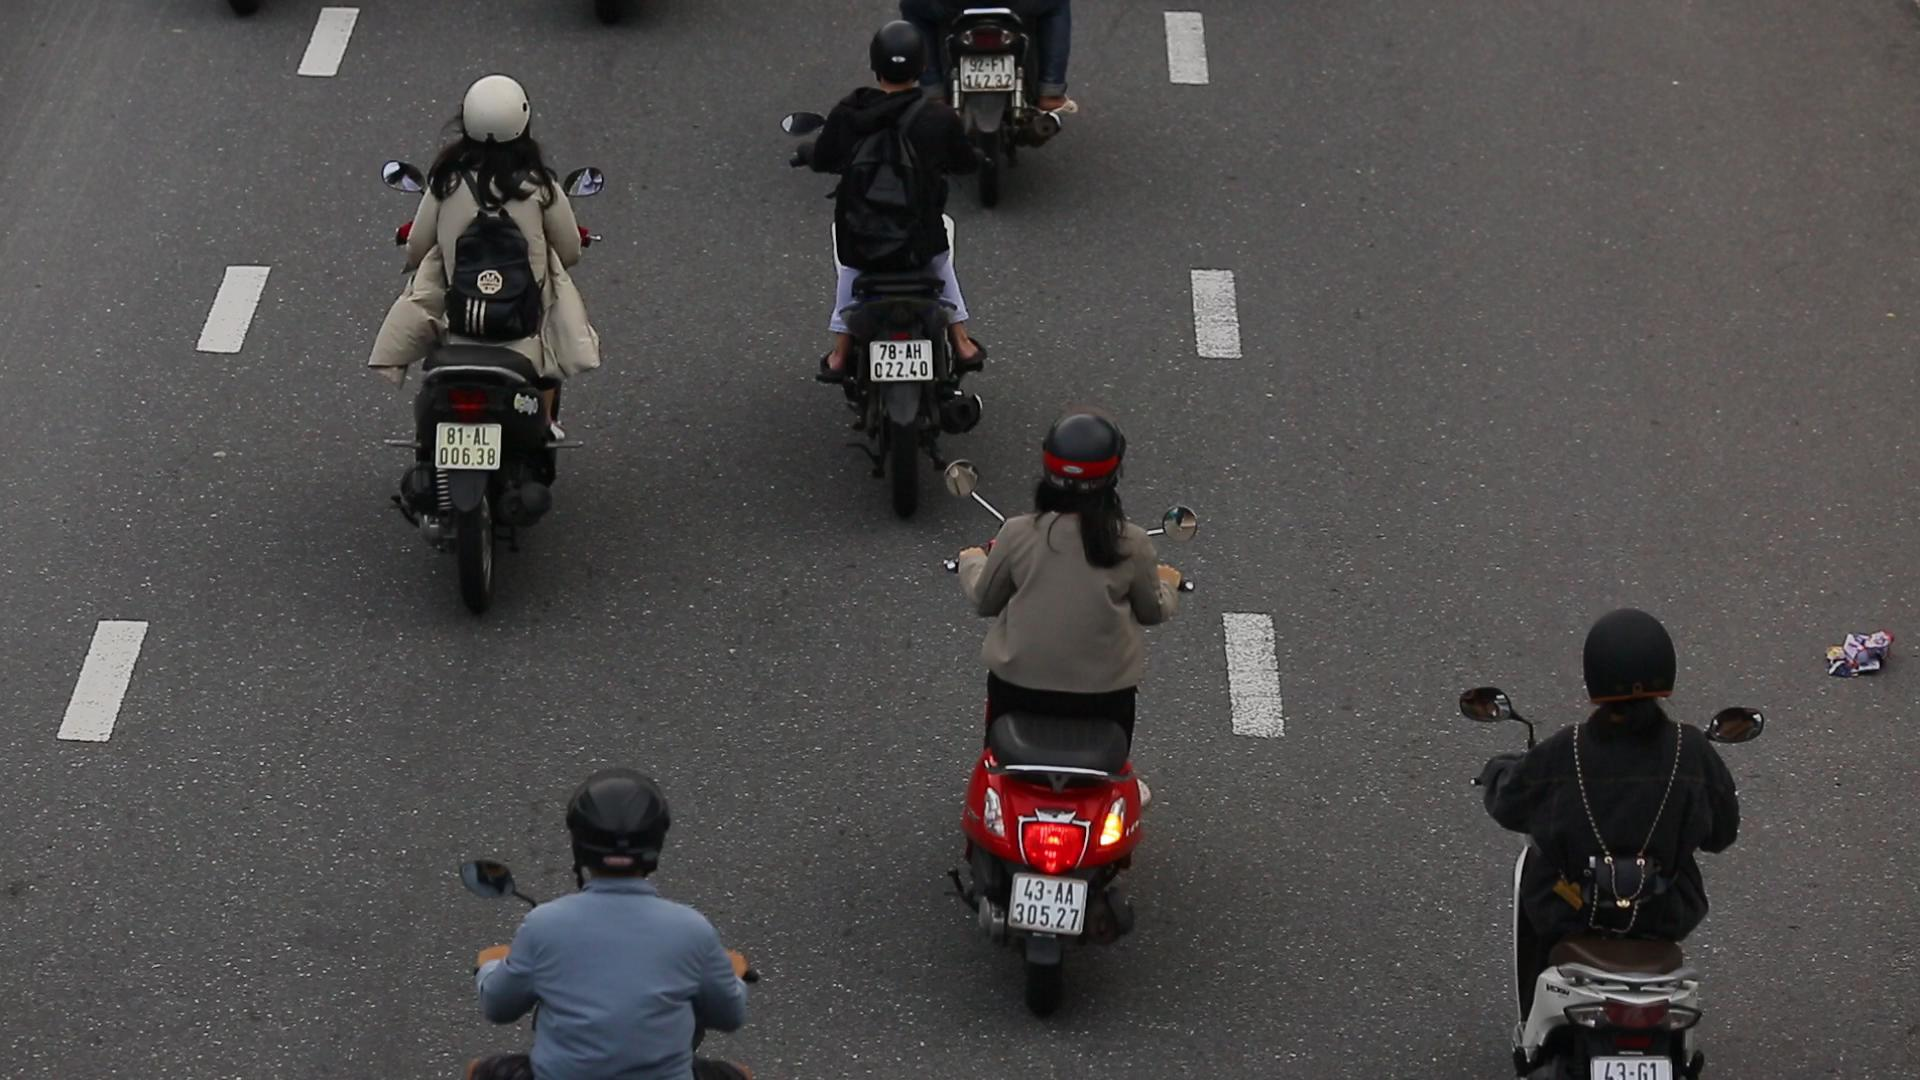motobike: (934, 404, 1178, 1025), (368, 76, 597, 628), (782, 12, 985, 495)
